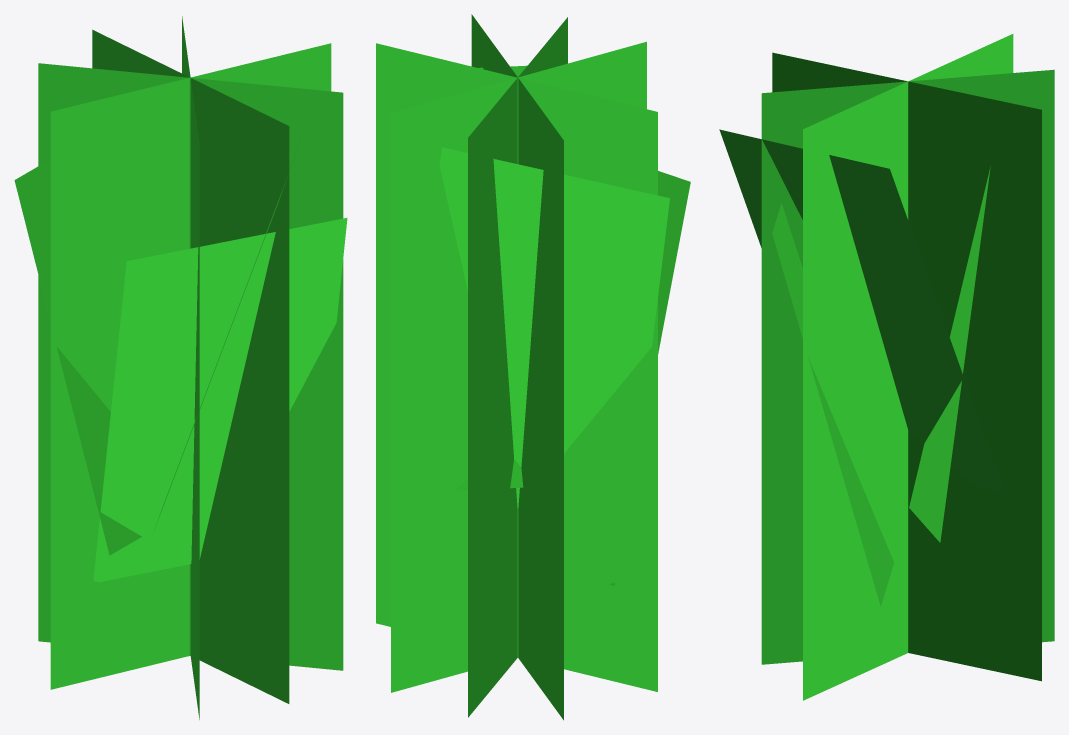
The model's file is cotf_tree.FBX.
The picture shows the model from 3 angles, left to right: view 1: azimuth 30°, elevation 25°; view 2: azimuth 150°, elevation 25°; view 3: azimuth 270°, elevation 25°; orthographic projection.
Visible parts, largest first — view 1: cotf_tree; view 2: cotf_tree; view 3: cotf_tree.
Boxes of the visible parts, <box> form: cotf_tree: <box>14,16,347,719</box>; cotf_tree: <box>376,14,690,720</box>; cotf_tree: <box>719,34,1054,700</box>.
Size of the model in its own units: 6.65 by 12.05 by 6.41.
